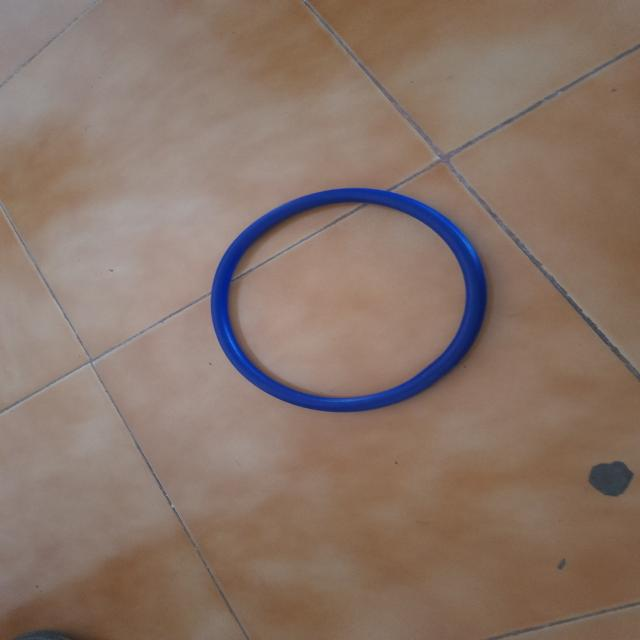daire: (210, 188, 485, 409)
